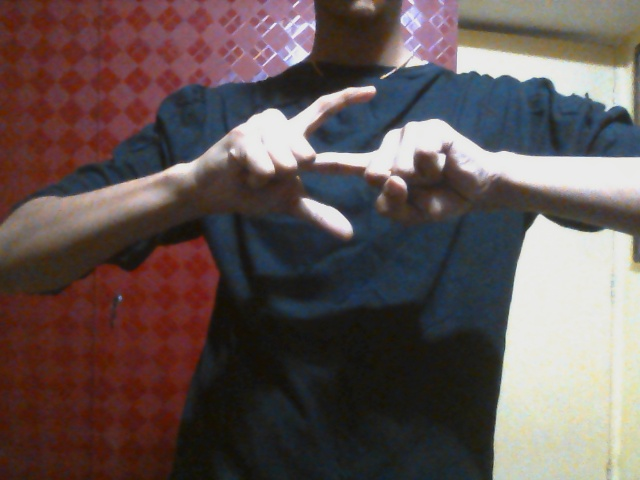E: (209, 84, 498, 249)
